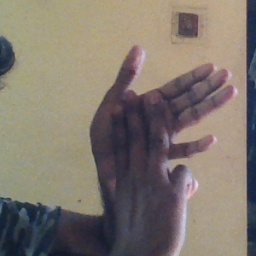M: (73, 43, 239, 222)
